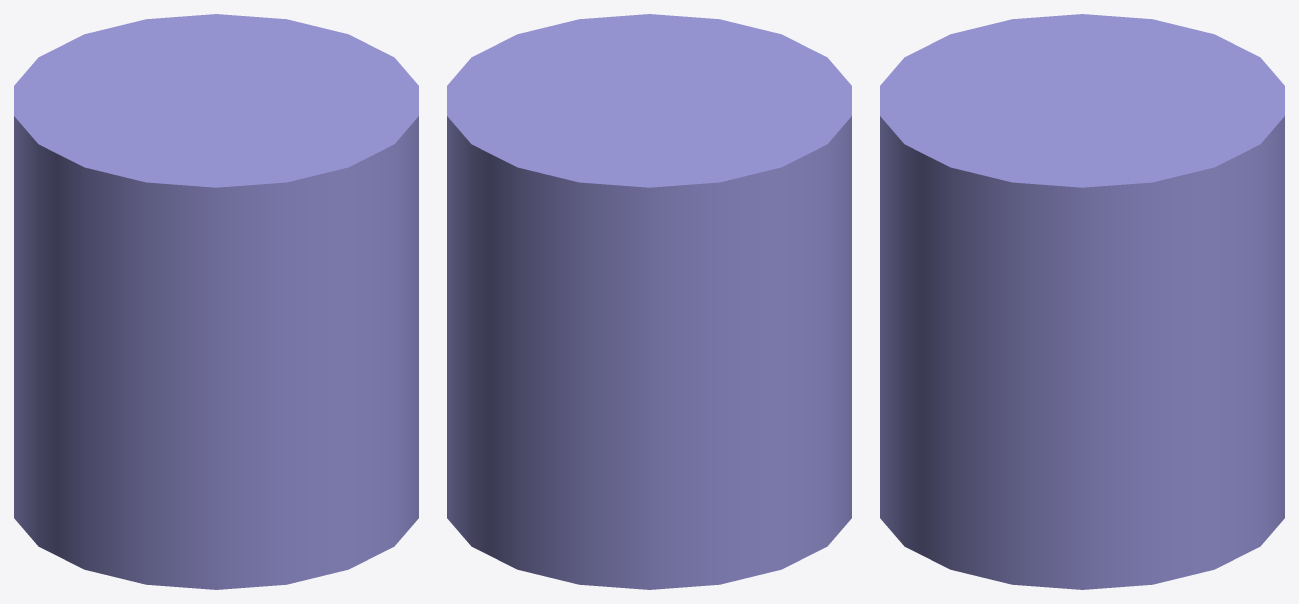
Rendered from bullseye.glb.
The picture shows the model from 3 angles, left to right: view 1: azimuth 30°, elevation 25°; view 2: azimuth 150°, elevation 25°; view 3: azimuth 270°, elevation 25°; orthographic projection.
Parts seen in each view (by area): view 1: Cylinder001; view 2: Cylinder001; view 3: Cylinder001.
Part boxes in pixels (left/top/right/bottom): Cylinder001: left=14, top=14, right=418, bottom=589; Cylinder001: left=447, top=14, right=851, bottom=589; Cylinder001: left=880, top=14, right=1284, bottom=589.
Bounding box in the file's own units: 0.0917 × 0.099 × 0.0903.
